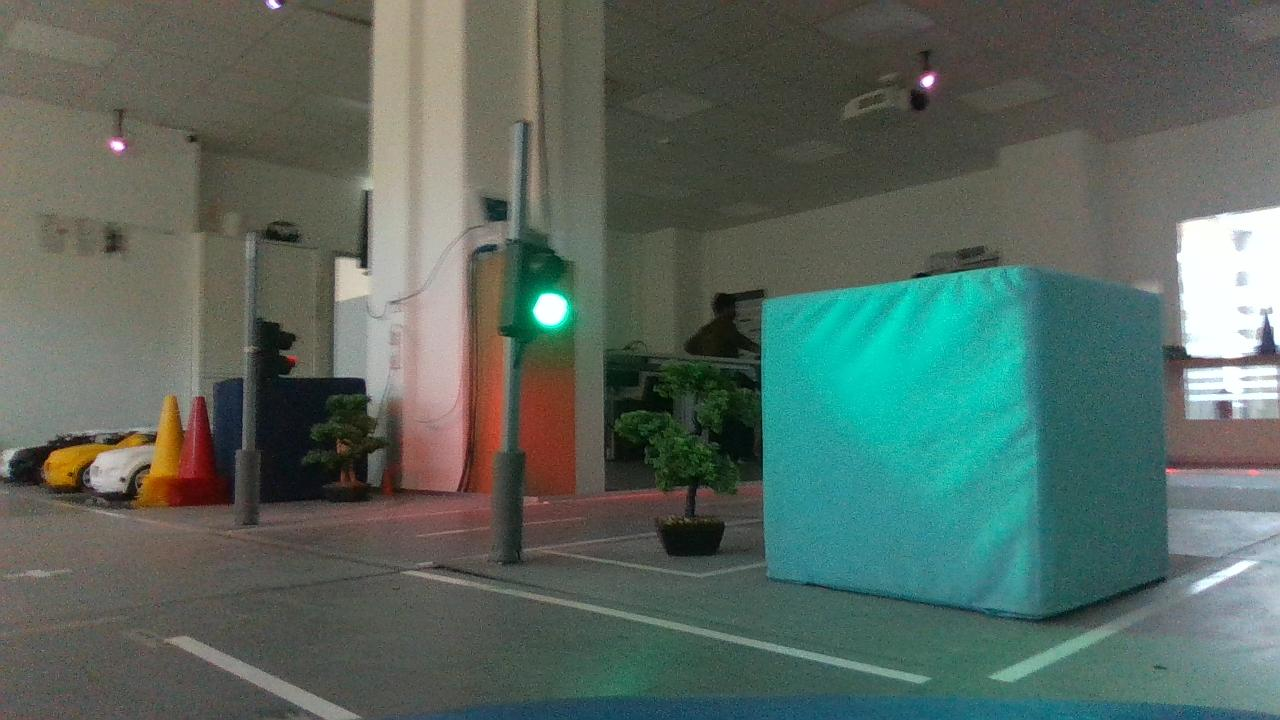traffic_light_green: (476, 222, 591, 353)
